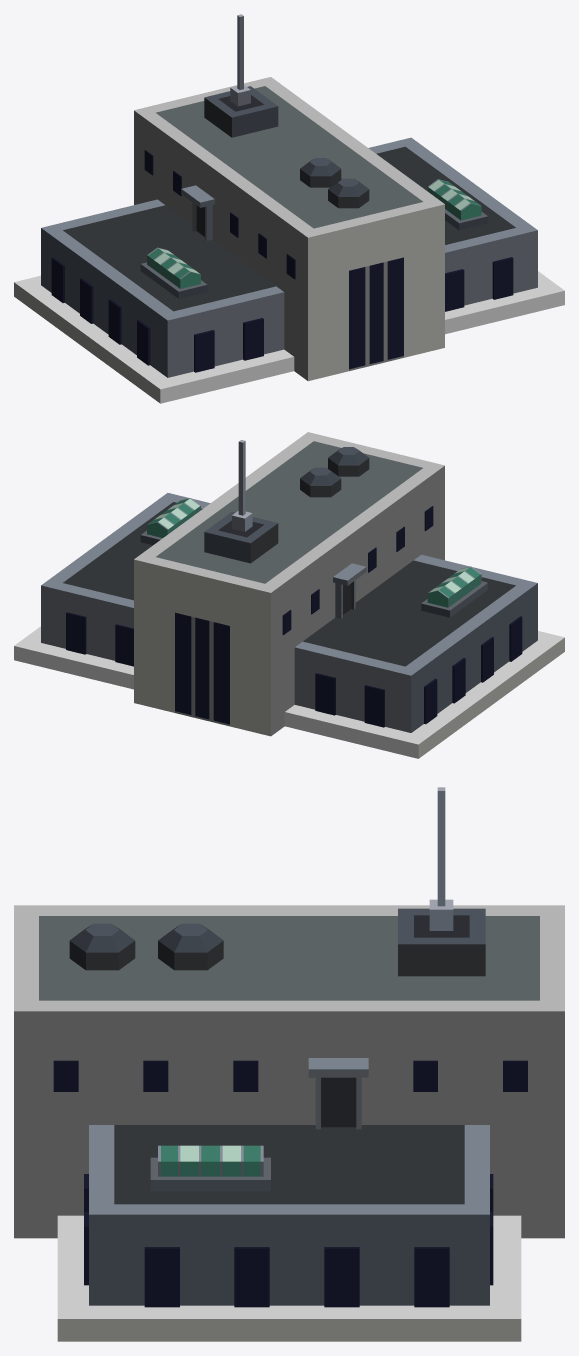
The model's file is TB_CITY_Skysc_G_Top_Blue.FBX.
The picture shows the model from 3 angles, top to bottom: view 1: azimuth 30°, elevation 25°; view 2: azimuth 150°, elevation 25°; view 3: azimuth 270°, elevation 25°; orthographic projection. The views are drawn at different scales.
Parts seen in each view (by area): view 1: TB_CITY_Skysc_G_Top_Blue; view 2: TB_CITY_Skysc_G_Top_Blue; view 3: TB_CITY_Skysc_G_Top_Blue.
Part boxes in pixels (x1=…): TB_CITY_Skysc_G_Top_Blue: x1=14, y1=14, x2=564, y2=403; TB_CITY_Skysc_G_Top_Blue: x1=14, y1=432, x2=564, y2=758; TB_CITY_Skysc_G_Top_Blue: x1=14, y1=787, x2=564, y2=1341.
Size of the model in its own units: 29.5 by 17.43 by 22.
